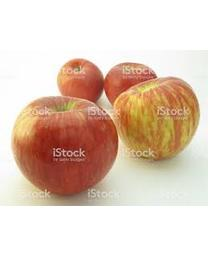apple: (11, 96, 118, 196), (114, 76, 200, 159), (54, 58, 105, 104), (104, 62, 158, 105)
